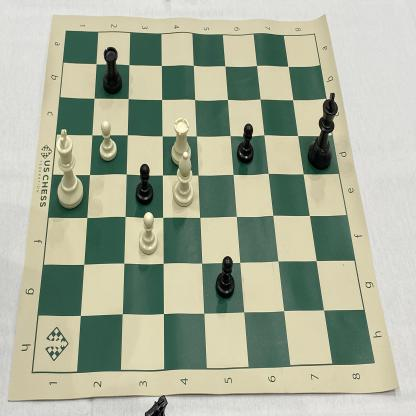black-king: (304, 90, 340, 171)
black-pawn: (214, 251, 238, 302), (134, 160, 155, 206), (236, 119, 256, 167)
black-rook: (101, 42, 125, 98)
white-bishop: (170, 150, 197, 210)
white-king: (53, 124, 87, 213)
white-pawn: (135, 208, 161, 259), (97, 117, 119, 164)
white-rook: (168, 114, 194, 170)
